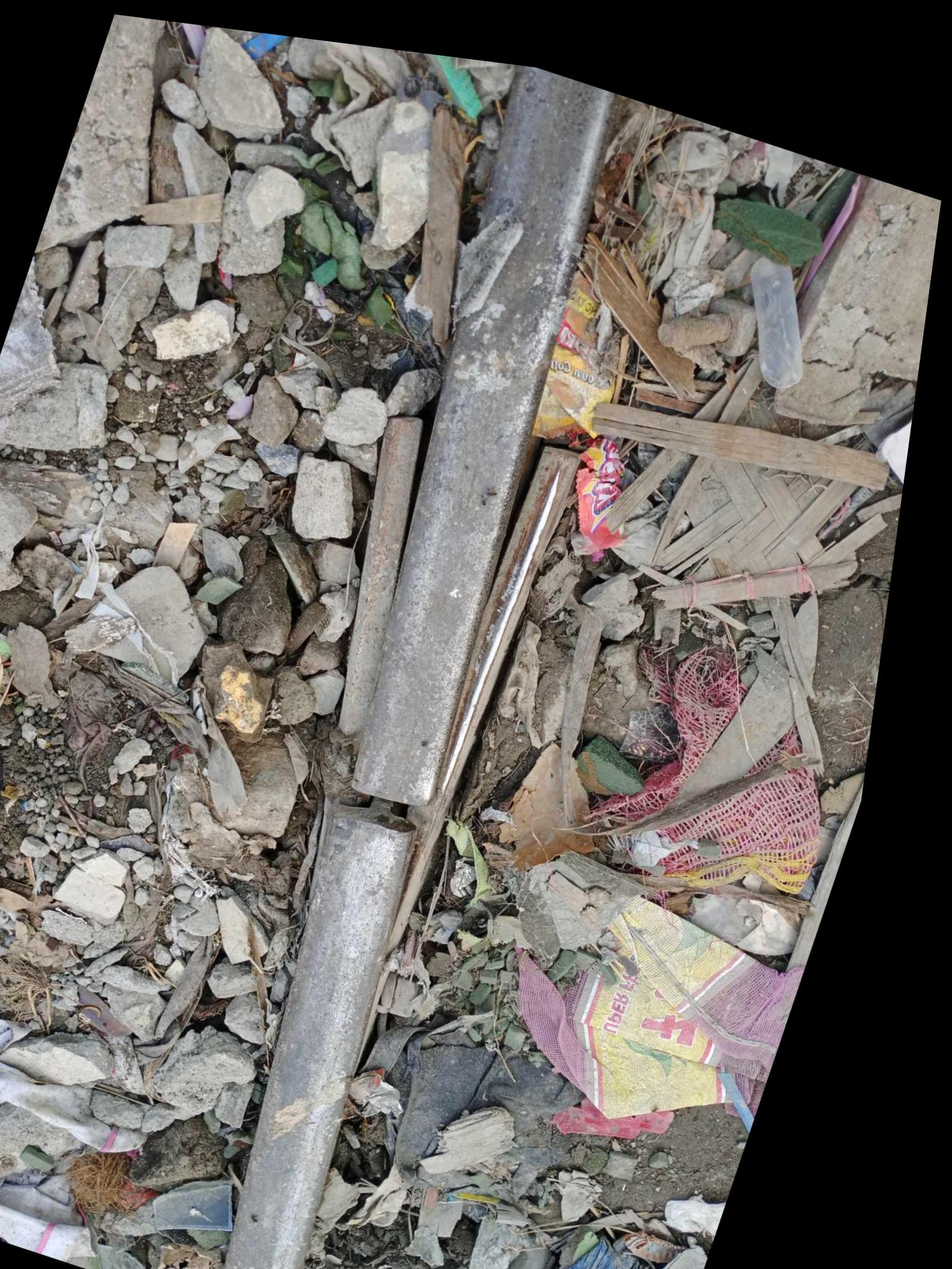person: (293, 700, 497, 889)
